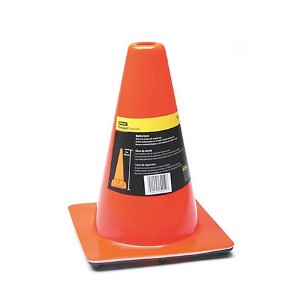traffic cone: (67, 41, 234, 268)
